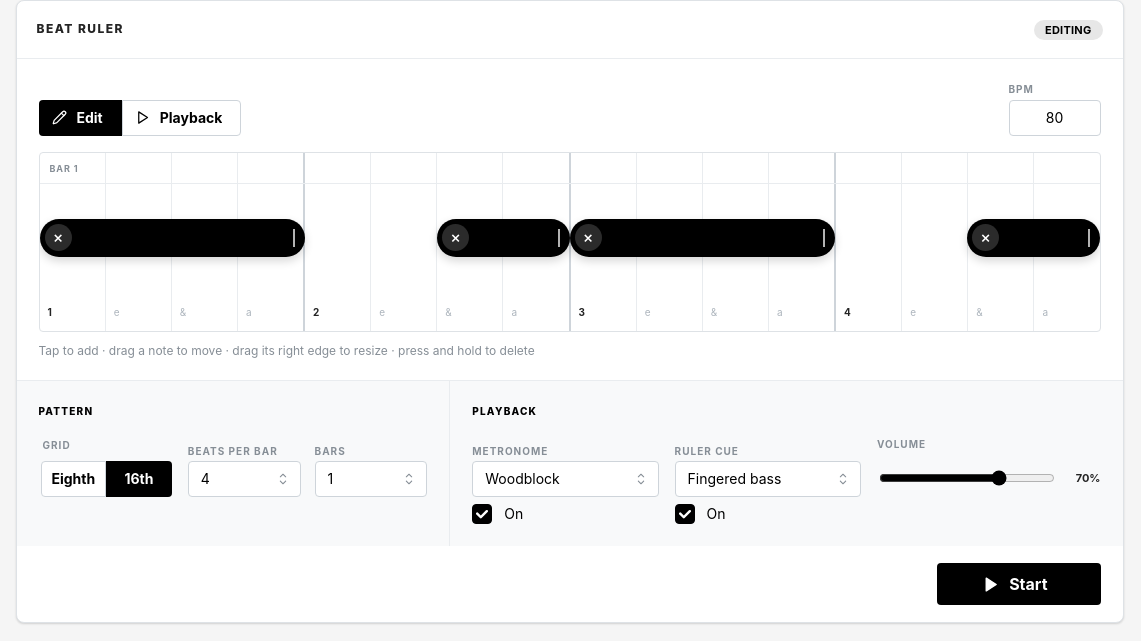
it: Beat Ruler UI › independently disables ruler cues and updates playback settings
Click the checkbox named "Sound ruler notes" at coordinates (685, 514), box [675,504,695,524]
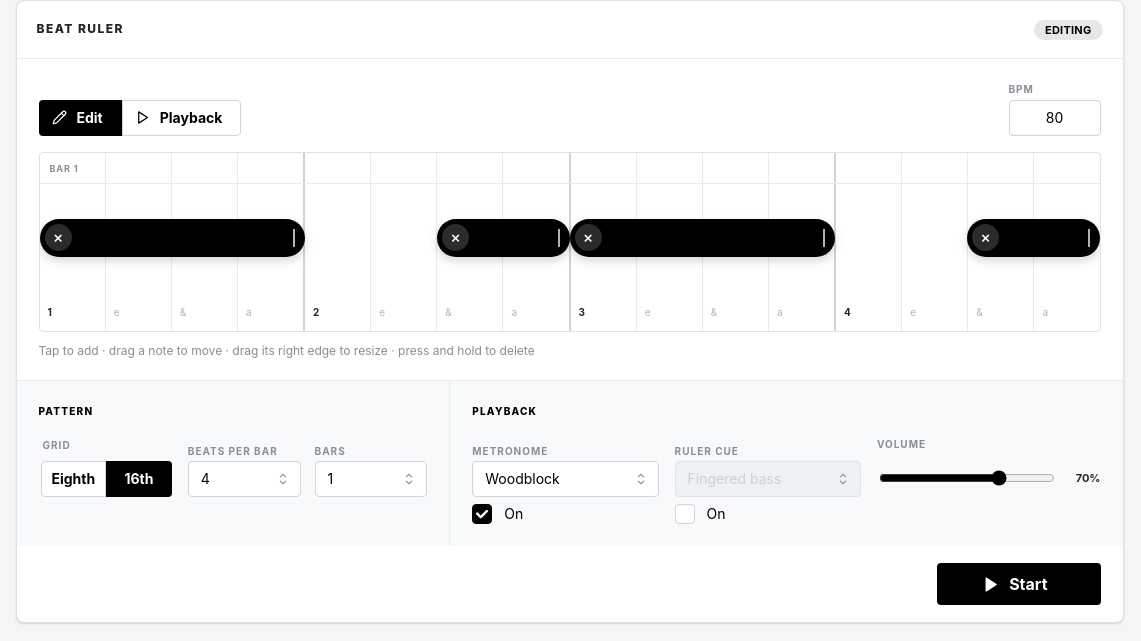
Now the checkbox named "Sound ruler notes" is not checked, box [675,504,695,524]
Now the dropdown labelled "RULER CUE" is disabled, box [675,461,861,497]
